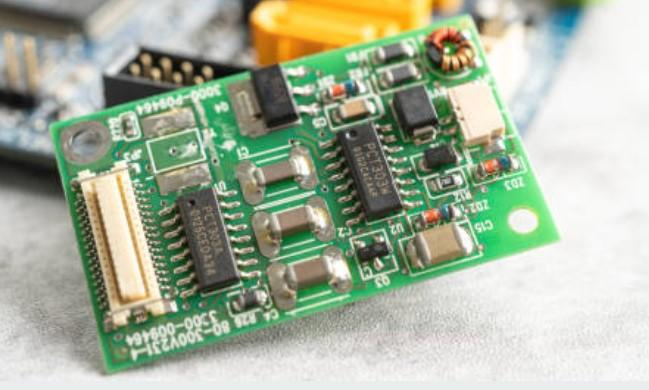Printed Circuit Board PCB: (47, 14, 562, 375)
